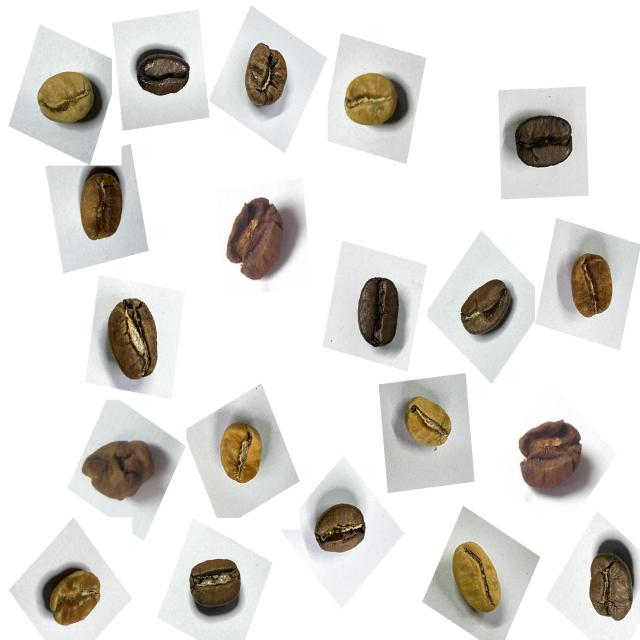bad: (215, 185, 297, 292), (512, 406, 598, 504), (79, 428, 169, 515)
dark: (344, 267, 412, 360), (128, 40, 198, 116)
light: (444, 532, 515, 627), (27, 58, 106, 140), (332, 62, 409, 144), (36, 556, 110, 638), (558, 244, 625, 334), (66, 166, 134, 254), (208, 409, 272, 495), (392, 386, 461, 463)
medium: (93, 286, 176, 396), (507, 104, 583, 184), (575, 542, 639, 637), (178, 547, 250, 628), (236, 36, 302, 122), (452, 269, 520, 348), (307, 495, 375, 569)
